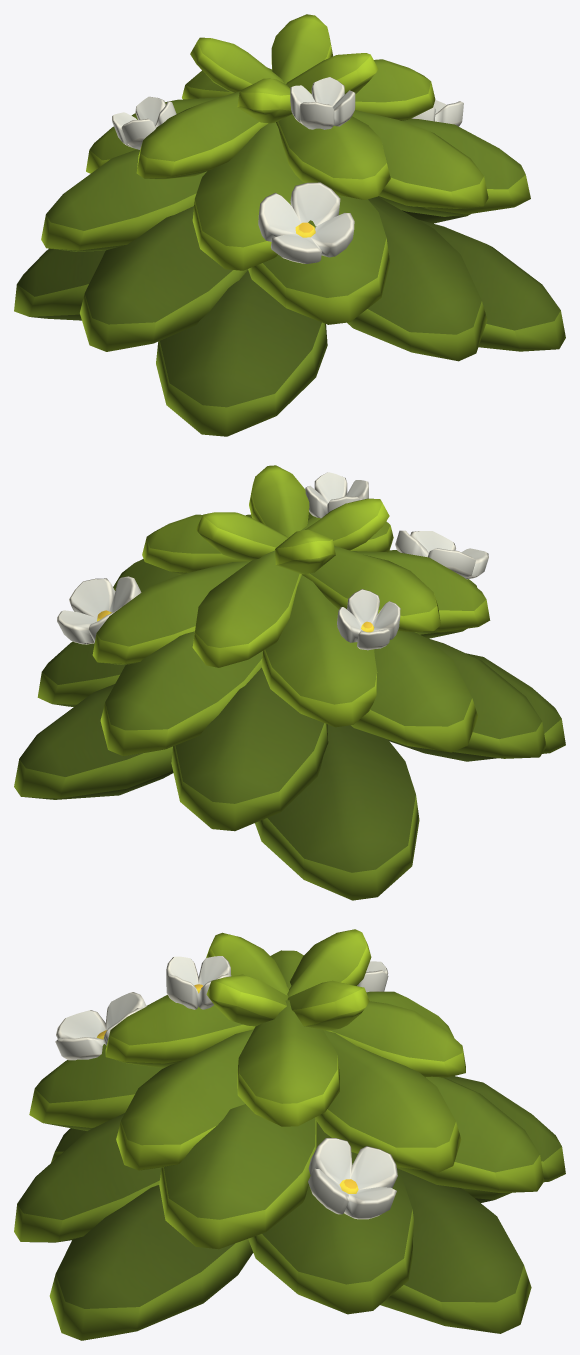
File: oval_leave_plant_flower_LOD_group.fbx
3 renders of one model, top to bottom at view 1: azimuth 30°, elevation 25°; view 2: azimuth 150°, elevation 25°; view 3: azimuth 270°, elevation 25°, orthographic. The views are drawn at different scales.
Visible parts, largest first — view 1: oval_leave_plant_flower_LOD0; view 2: oval_leave_plant_flower_LOD0; view 3: oval_leave_plant_flower_LOD0.
Boxes of the visible parts, box(x1,y1,x2,y2) form: oval_leave_plant_flower_LOD0: box(14, 14, 565, 436); oval_leave_plant_flower_LOD0: box(14, 465, 565, 900); oval_leave_plant_flower_LOD0: box(14, 929, 565, 1340).
Size of what is drawn, in the model's own units: 253 by 158 by 251.
Materials: 1 (1 with a texture image).
